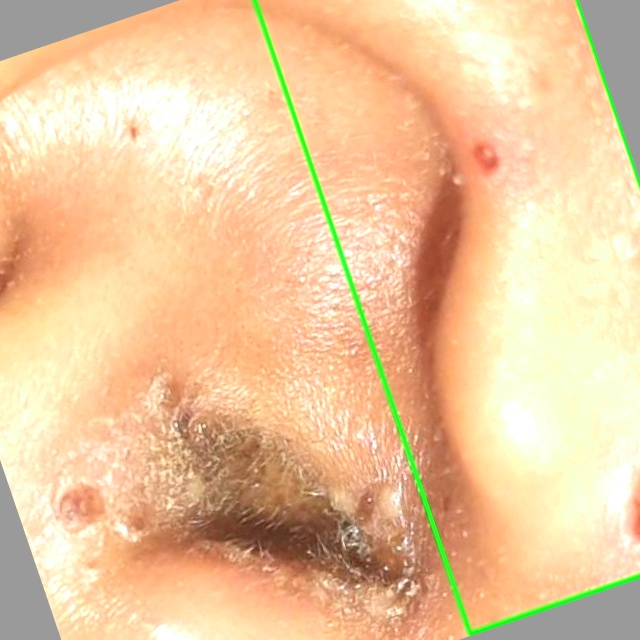Contact Dermatitis: (253, 0, 639, 635)
